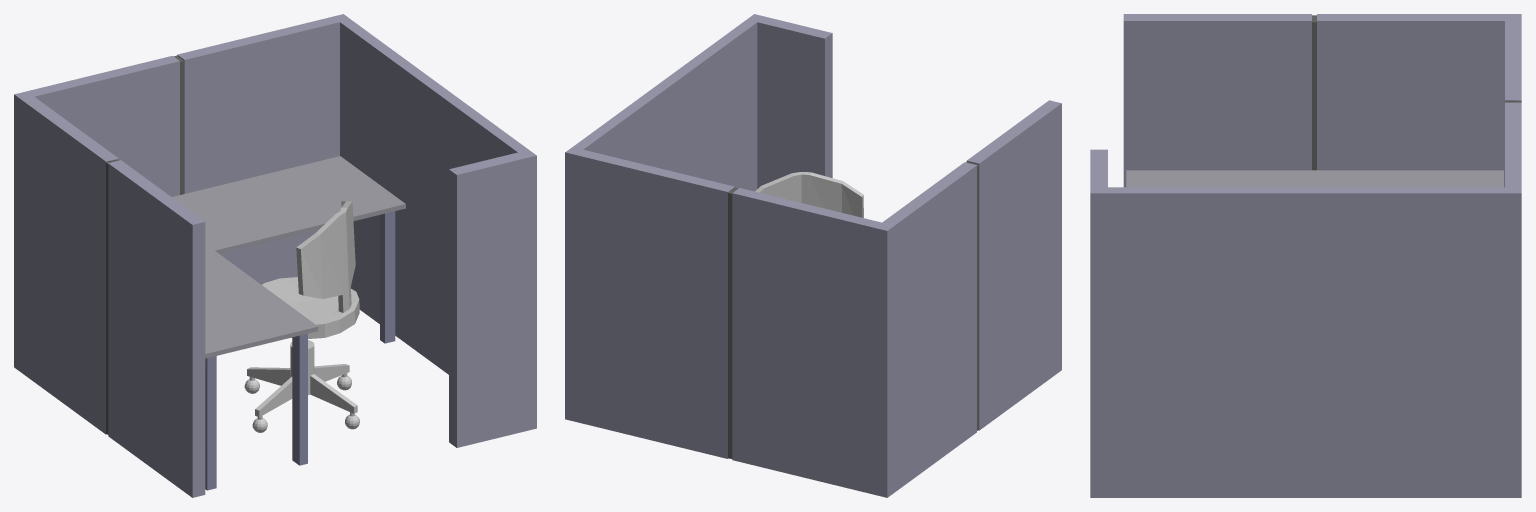
File: Cubical.fbx
The picture shows the model from 3 angles, left to right: view 1: azimuth 30°, elevation 25°; view 2: azimuth 150°, elevation 25°; view 3: azimuth 270°, elevation 25°; orthographic projection. The views are drawn at different scales.
Parts seen in each view (by area): view 1: pCube1, pCube2, pSphere5; view 2: pCube1, pSphere5; view 3: pCube1, pCube2.
Part boxes in pixels (box(x1,y1,x2,y2)): pCube1: box(14, 14, 536, 497); pCube2: box(172, 156, 405, 490); pSphere5: box(244, 201, 359, 432); pCube1: box(565, 14, 1061, 497); pSphere5: box(755, 172, 863, 217); pCube1: box(1090, 14, 1521, 497); pCube2: box(1126, 170, 1503, 187).
Bounding box in the file's own units: 4.58 × 3.8 × 4.65.
